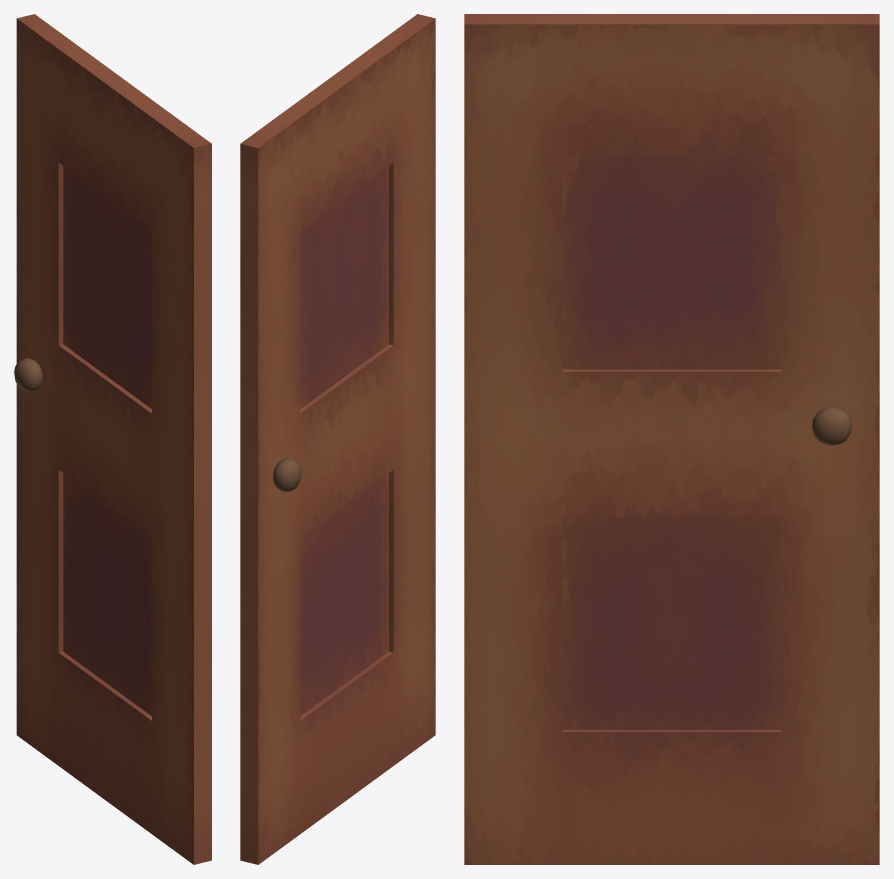
Rendered from door.fbx.
3 renders of one model, left to right at view 1: azimuth 30°, elevation 25°; view 2: azimuth 150°, elevation 25°; view 3: azimuth 270°, elevation 25°, orthographic. The views are drawn at different scales.
Visible parts, largest first — view 1: Cube.001, Cube.003; view 2: Cube.001, Cube.003; view 3: Cube.001, Cube.002.
Boxes of the visible parts, x1=… form: Cube.001: x1=16, y1=14, x2=211, y2=864; Cube.003: x1=14, y1=358, x2=42, y2=392; Cube.001: x1=240, y1=14, x2=435, y2=864; Cube.003: x1=272, y1=458, x2=301, y2=492; Cube.001: x1=464, y1=14, x2=879, y2=864; Cube.002: x1=812, y1=407, x2=851, y2=445.
Bounding box in the file's own units: 76.64 × 951 × 426.
Materials: 2 (1 with a texture image).
